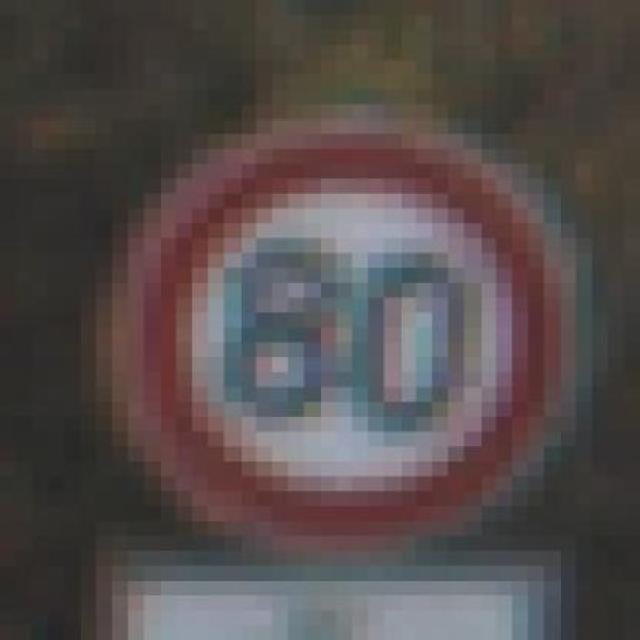forb_speed_over_80: (144, 139, 567, 550)
